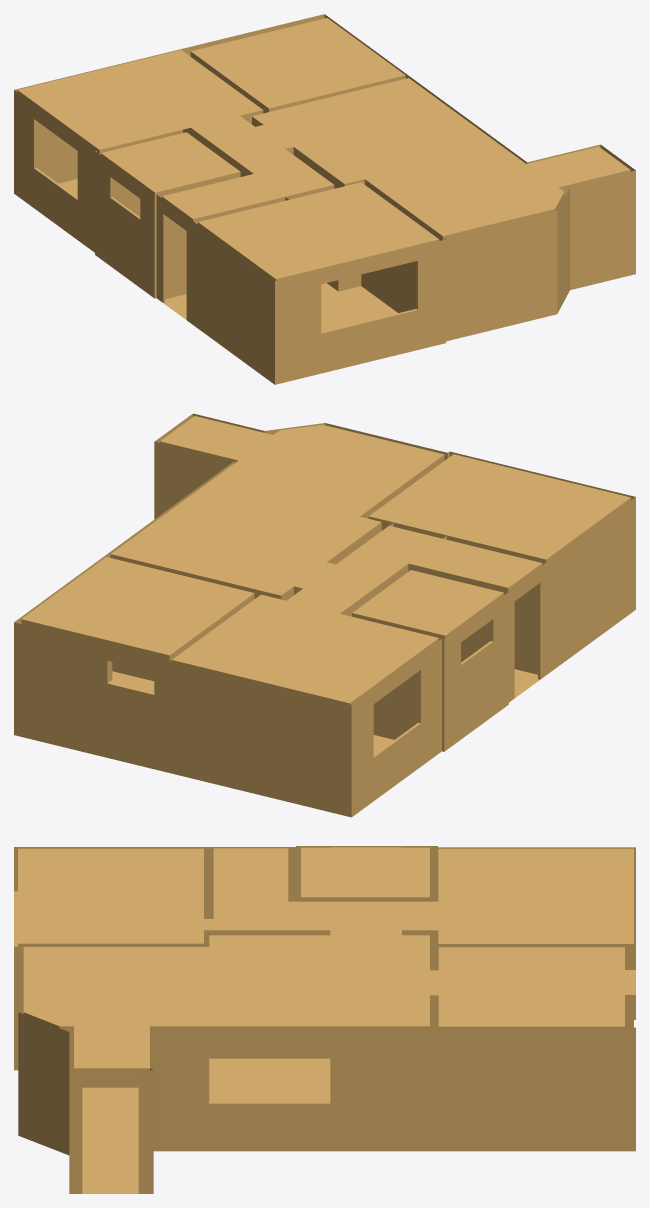
File: Casa.fbx
3 renders of one model, top to bottom at view 1: azimuth 30°, elevation 25°; view 2: azimuth 150°, elevation 25°; view 3: azimuth 270°, elevation 25°, orthographic. The views are drawn at different scales.
Visible parts, largest first — view 1: casa; view 2: casa; view 3: casa.
Part boxes in pixels (bbox=[...]): casa: bbox=[14, 14, 635, 384]; casa: bbox=[14, 413, 635, 817]; casa: bbox=[14, 846, 635, 1193].
Size of the model in its own units: 571 by 147 by 669.
